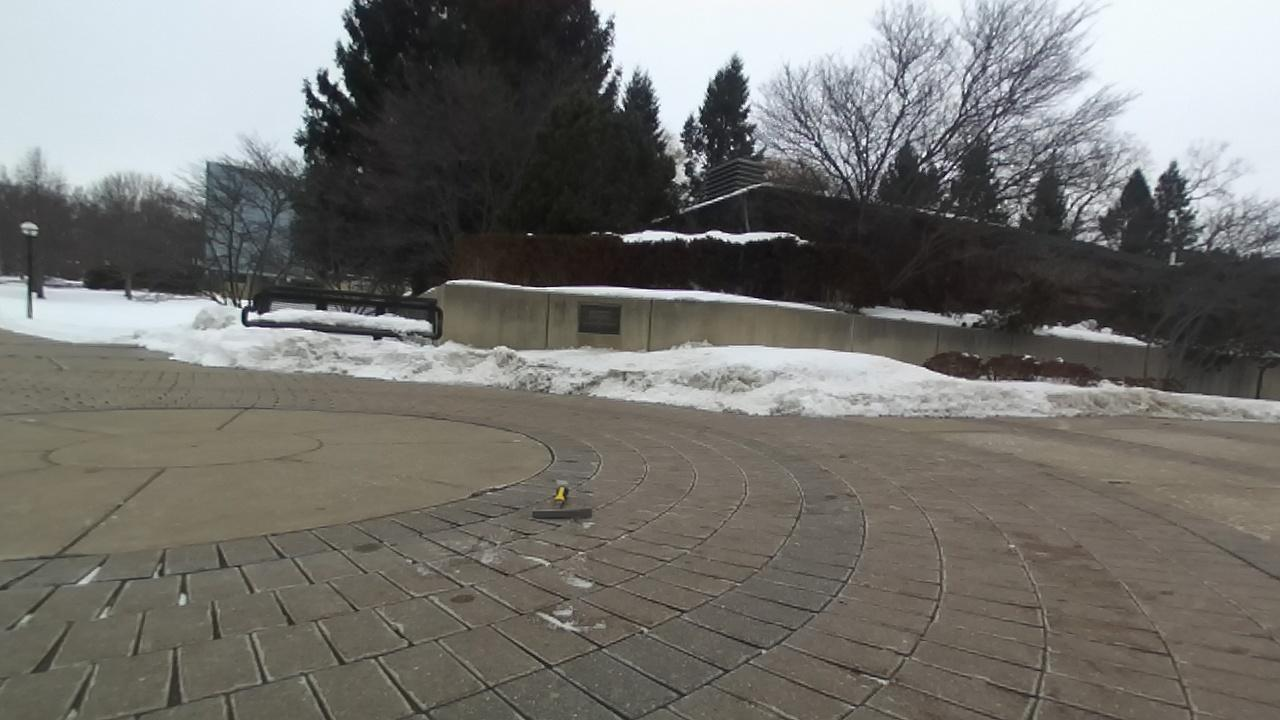pick: (532, 486, 592, 519)
